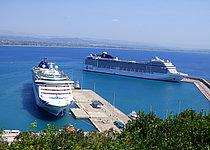Ship: (81, 49, 195, 88), (29, 56, 81, 124)
